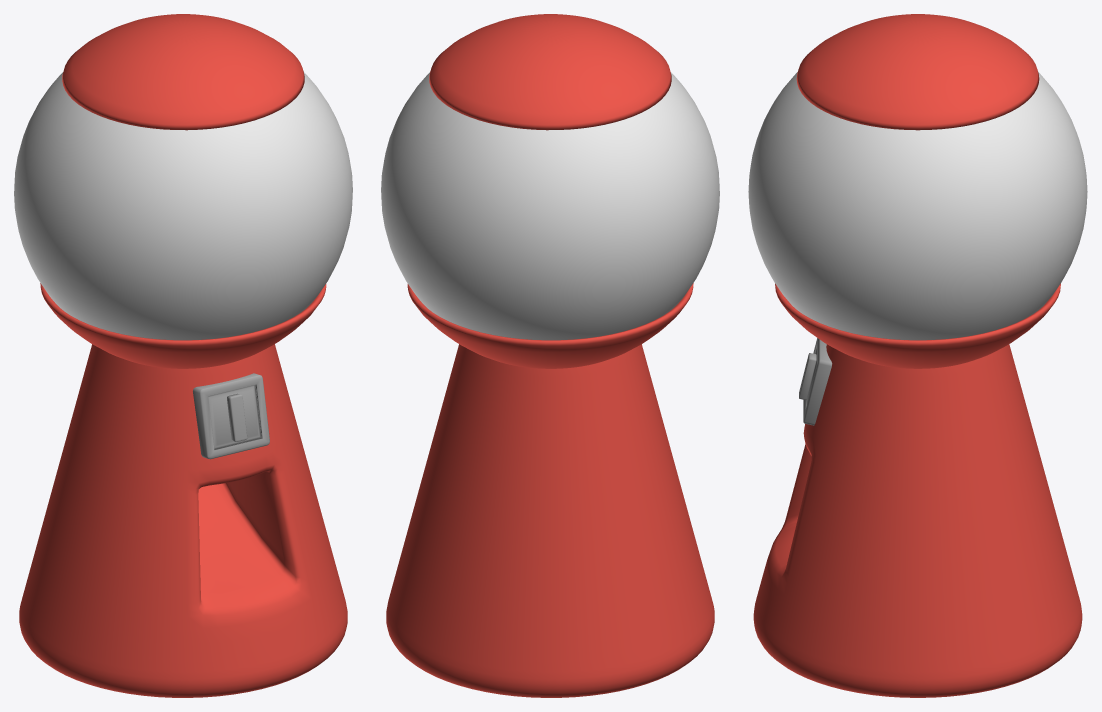
Rendered from Turret_fixed.fbx.
3 renders of one model, left to right at view 1: azimuth 30°, elevation 25°; view 2: azimuth 150°, elevation 25°; view 3: azimuth 270°, elevation 25°, orthographic.
Parts seen in each view (by area): view 1: Circle, Sphere, Sphere.001, Cube; view 2: Circle, Sphere, Sphere.001; view 3: Circle, Sphere, Sphere.001, Cube.
Boxes of the visible parts, x1=… form: Circle: x1=19, y1=344, x2=347, y2=697; Sphere: x1=14, y1=72, x2=352, y2=340; Sphere.001: x1=40, y1=14, x2=326, y2=368; Cube: x1=193, y1=373, x2=269, y2=459; Circle: x1=386, y1=344, x2=714, y2=697; Sphere: x1=381, y1=72, x2=719, y2=340; Sphere.001: x1=407, y1=14, x2=693, y2=368; Circle: x1=753, y1=344, x2=1082, y2=697; Sphere: x1=748, y1=72, x2=1087, y2=340; Sphere.001: x1=775, y1=14, x2=1060, y2=368; Cube: x1=799, y1=338, x2=832, y2=425.
Size of the model in its own units: 197 by 389 by 197.
